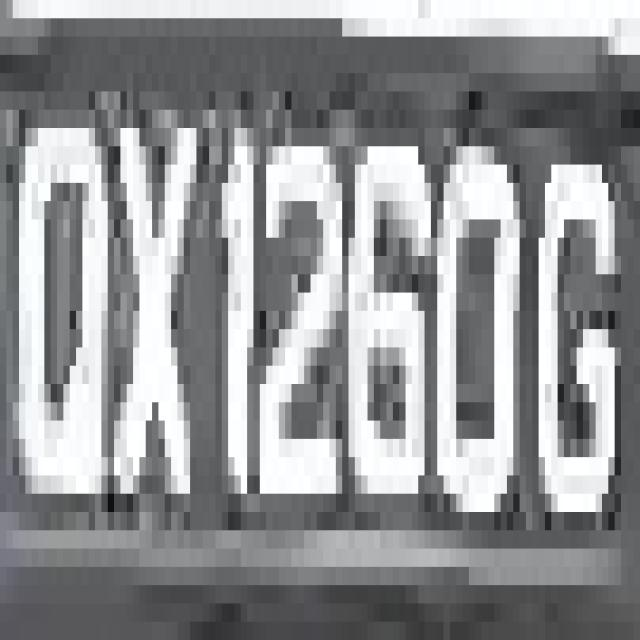0: (418, 73, 520, 530)
1: (190, 91, 266, 512)
2: (241, 92, 348, 530)
6: (329, 91, 431, 512)
G: (513, 73, 621, 549)
Q: (12, 73, 126, 530)
X: (108, 73, 196, 585)
